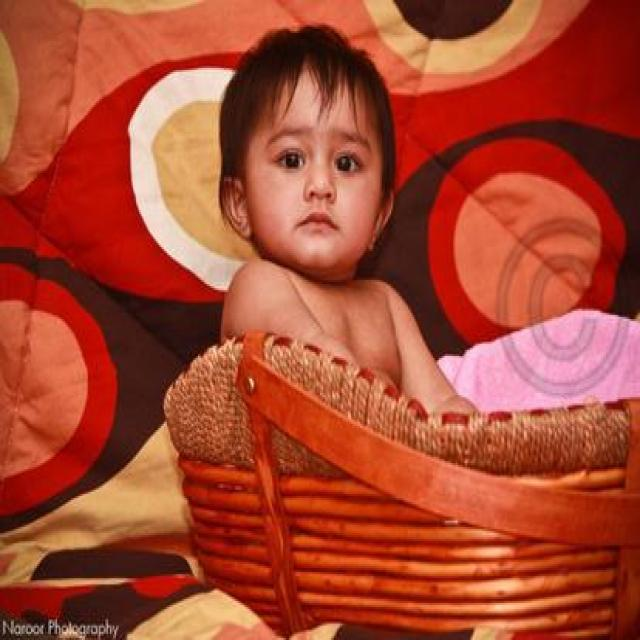non-dog: (219, 20, 640, 423)
